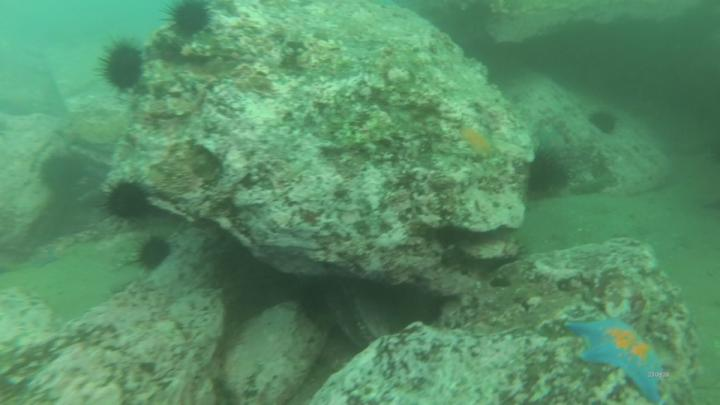echinus: (107, 178, 157, 229), (104, 41, 151, 94), (531, 148, 573, 202), (162, 2, 217, 41), (131, 233, 174, 275), (590, 109, 621, 138)
starfish: (564, 316, 673, 403)
